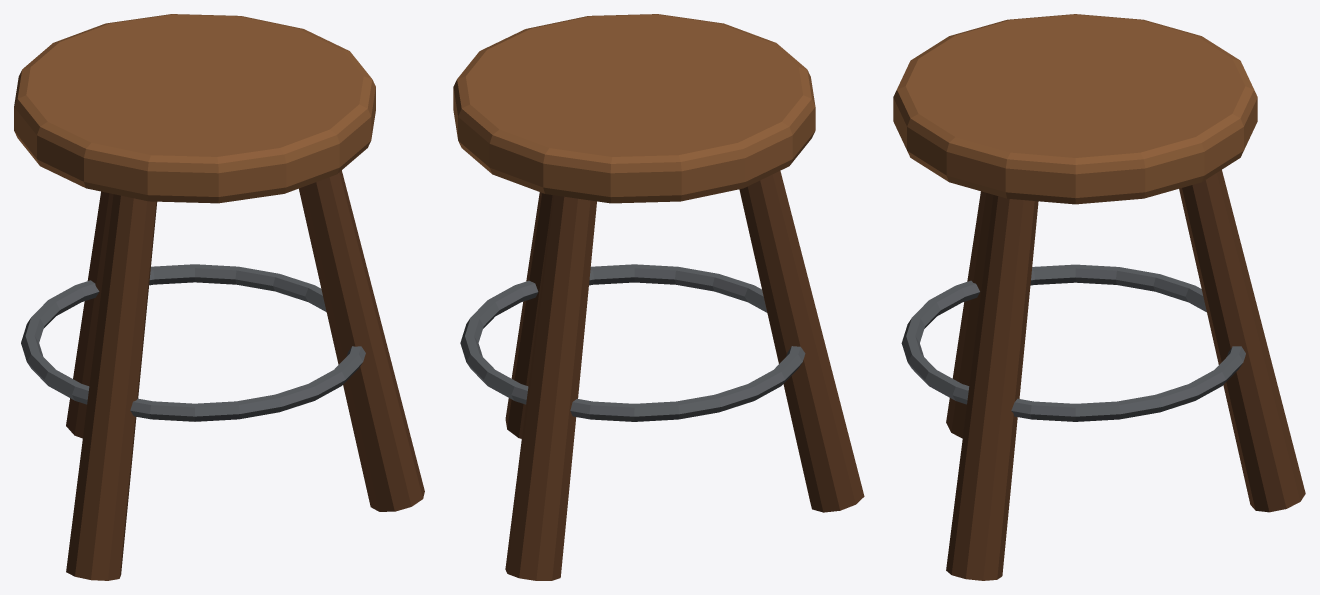
Rendered from wooden-stool_final.glb.
The picture shows the model from 3 angles, left to right: view 1: azimuth 30°, elevation 25°; view 2: azimuth 150°, elevation 25°; view 3: azimuth 270°, elevation 25°; orthographic projection.
Visible parts, largest first — view 1: SM_WoodenStool_Seat, SM_WoodenStool_Leg_02, SM_WoodenStool_Leg_03, SM_WoodenStool_Brace, SM_WoodenStool_Leg_01; view 2: SM_WoodenStool_Seat, SM_WoodenStool_Leg_01, SM_WoodenStool_Leg_02, SM_WoodenStool_Brace, SM_WoodenStool_Leg_03; view 3: SM_WoodenStool_Seat, SM_WoodenStool_Leg_03, SM_WoodenStool_Leg_01, SM_WoodenStool_Brace, SM_WoodenStool_Leg_02.
Part boxes in pixels (bbox=[...]): SM_WoodenStool_Seat: bbox=[14, 14, 375, 203]; SM_WoodenStool_Leg_02: bbox=[66, 194, 157, 580]; SM_WoodenStool_Leg_03: bbox=[299, 170, 424, 511]; SM_WoodenStool_Brace: bbox=[21, 264, 365, 421]; SM_WoodenStool_Leg_01: bbox=[66, 191, 113, 438]; SM_WoodenStool_Seat: bbox=[453, 14, 815, 203]; SM_WoodenStool_Leg_01: bbox=[505, 195, 596, 580]; SM_WoodenStool_Leg_02: bbox=[739, 171, 864, 512]; SM_WoodenStool_Brace: bbox=[460, 264, 805, 421]; SM_WoodenStool_Leg_03: bbox=[505, 192, 552, 438]; SM_WoodenStool_Seat: bbox=[893, 14, 1257, 204]; SM_WoodenStool_Leg_03: bbox=[946, 195, 1038, 580]; SM_WoodenStool_Leg_01: bbox=[1179, 170, 1305, 512]; SM_WoodenStool_Brace: bbox=[901, 264, 1245, 421]; SM_WoodenStool_Leg_02: bbox=[946, 191, 993, 438].
Size of the model in its own units: 0.3989 by 0.456 by 0.4073.
